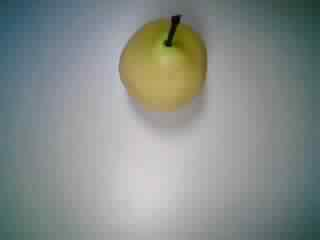pear: (105, 12, 213, 117)
